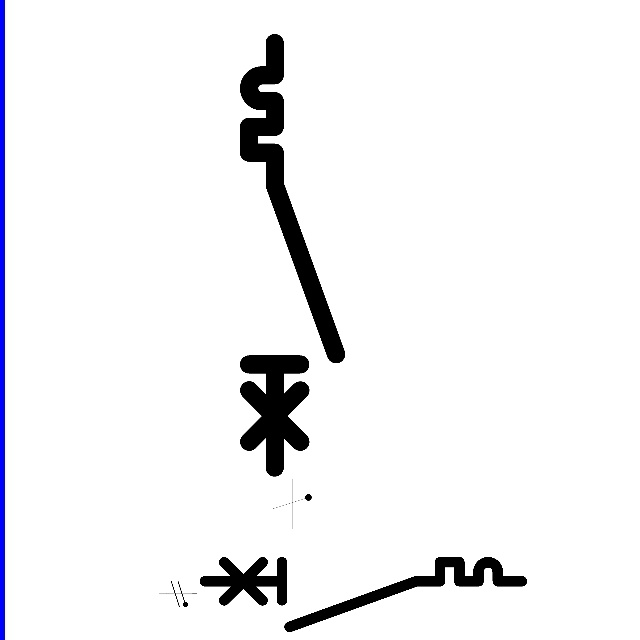interruptor_termomagnetico: (238, 32, 347, 478), (196, 554, 529, 635)
